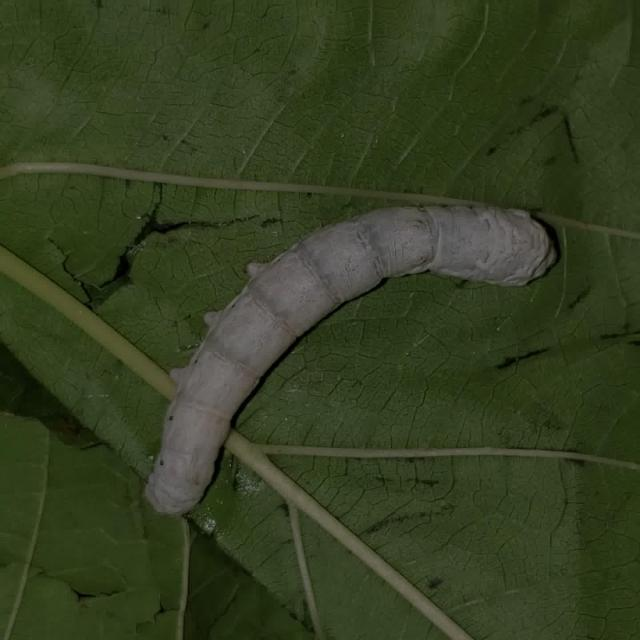Healthy: (129, 182, 564, 526)
